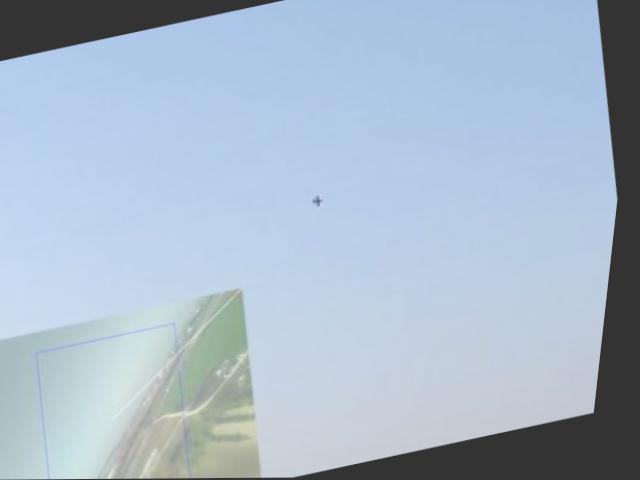uav: (313, 192, 331, 208)
